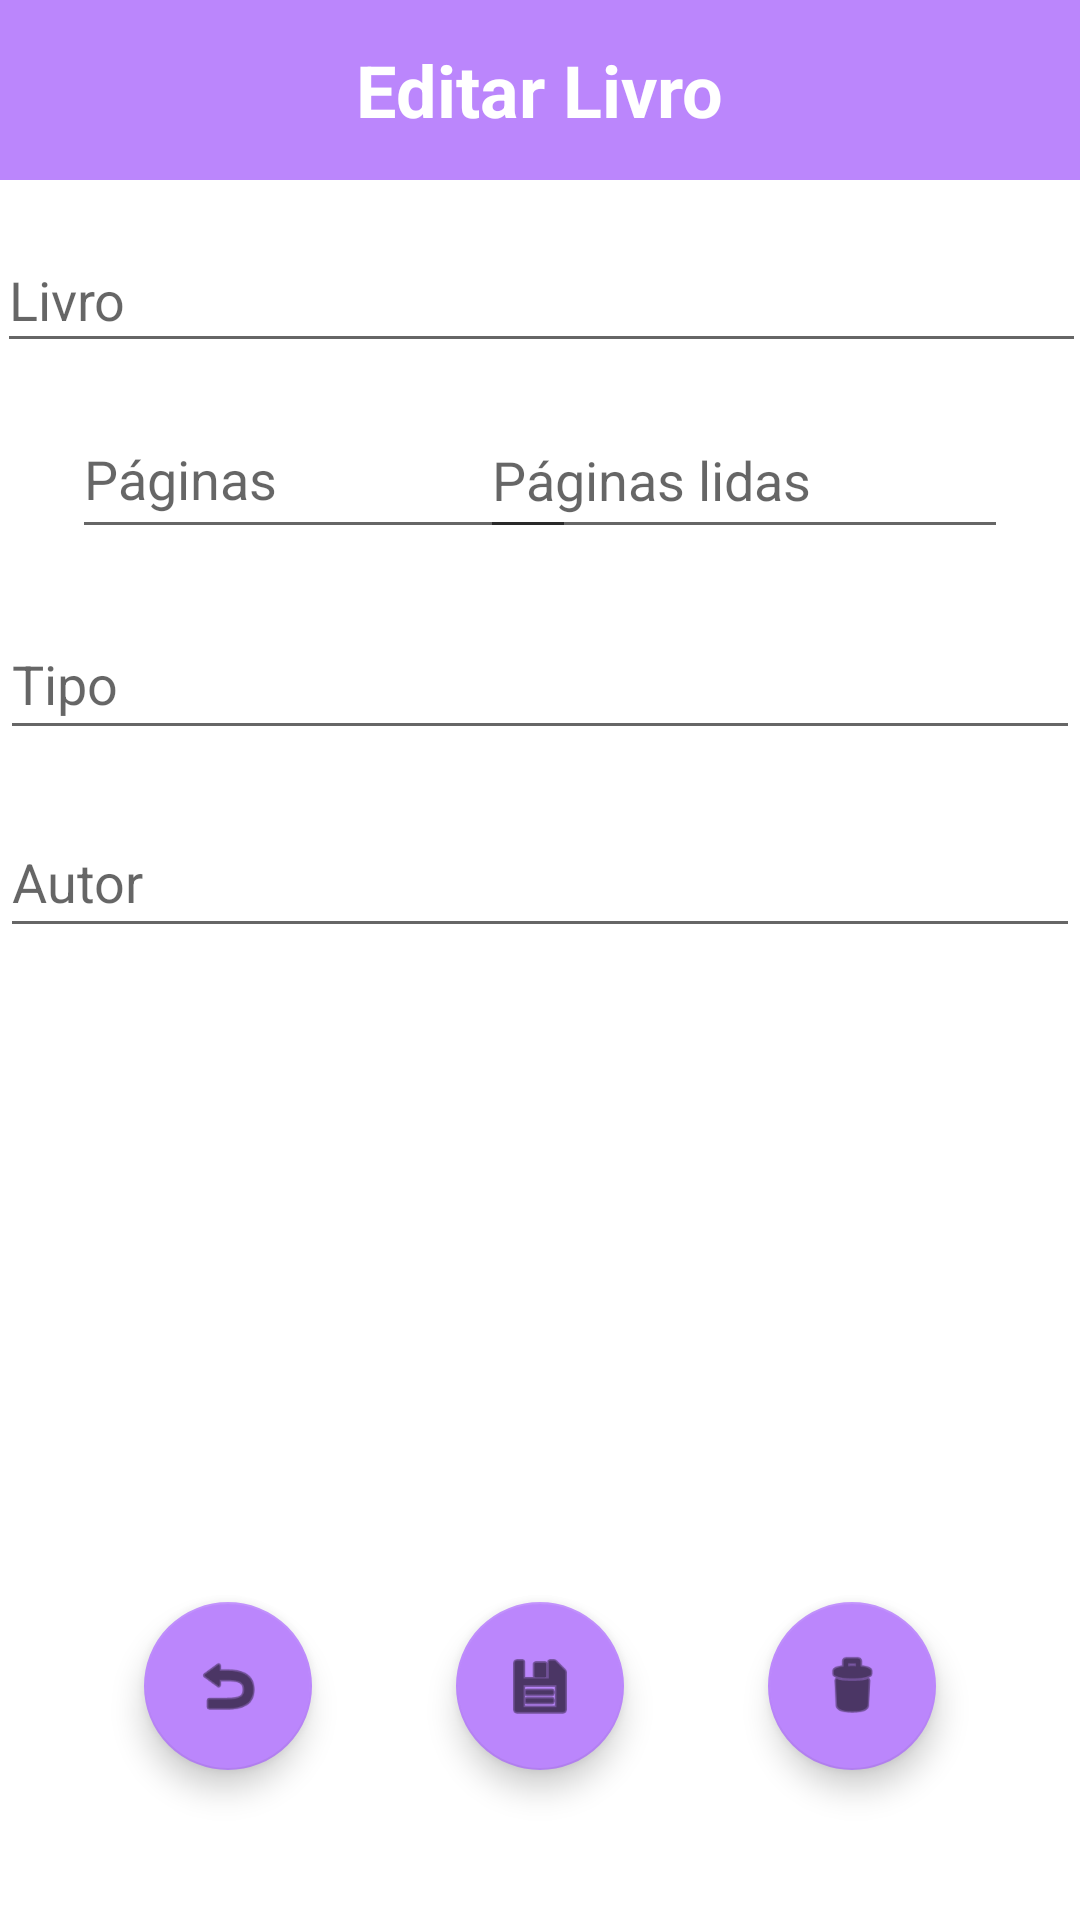

Where to tap for icons on this 1080*1920 app screen, as (x=x, y=y):
delete: (x=852, y=1686)
revert: (x=228, y=1686)
save: (x=540, y=1686)
